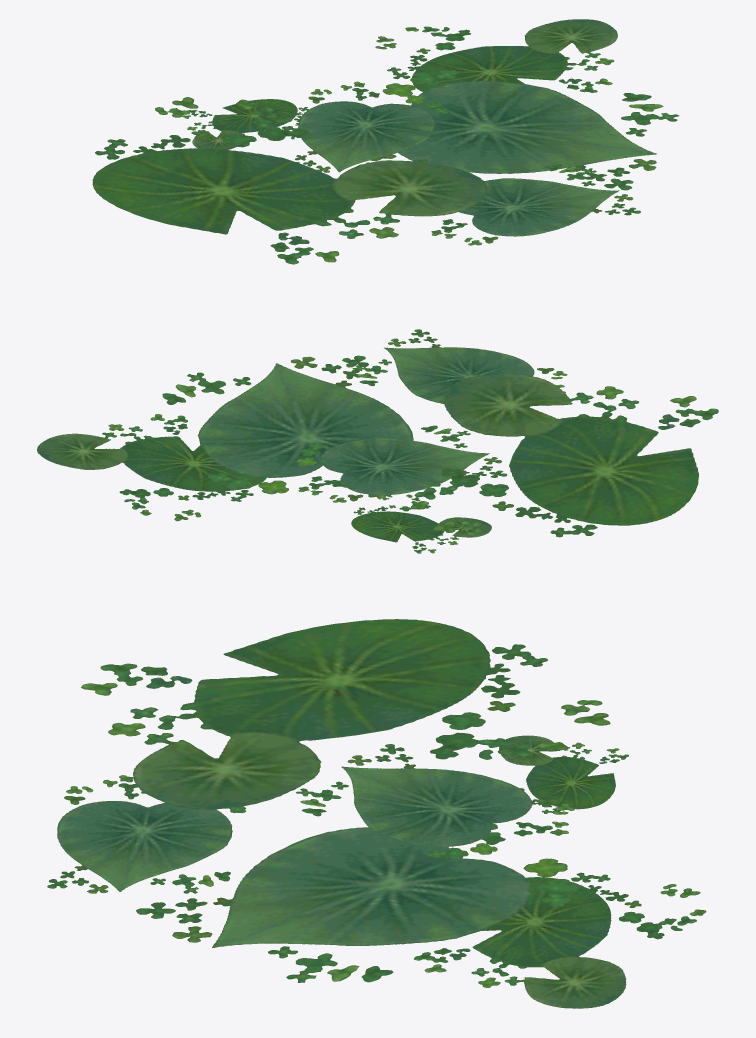
File: 5012_Item_cao_2.FBX
3 views of the same model, one above another, from view 1: azimuth 30°, elevation 25°; view 2: azimuth 150°, elevation 25°; view 3: azimuth 270°, elevation 25° (orthographic). The views are drawn at different scales.
Visible parts, largest first — view 1: 5012_Item_cao_2; view 2: 5012_Item_cao_2; view 3: 5012_Item_cao_2.
Boxes of the visible parts, x1,y1,x2,y2 form: 5012_Item_cao_2: (92,19,679,264); 5012_Item_cao_2: (37,329,718,553); 5012_Item_cao_2: (47,619,706,1008).
Size of the model in its own units: 226 by 6.85 by 171.
